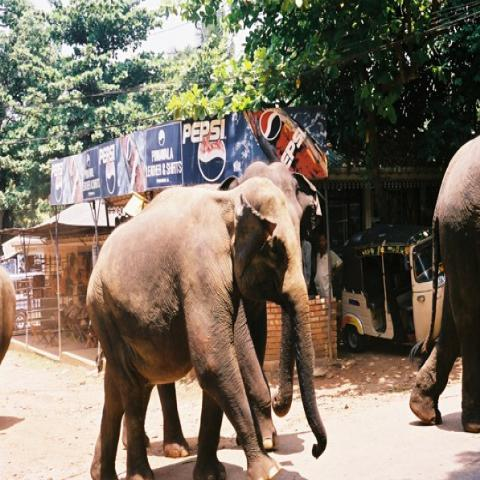car: (342, 227, 446, 349), (11, 270, 45, 330)
